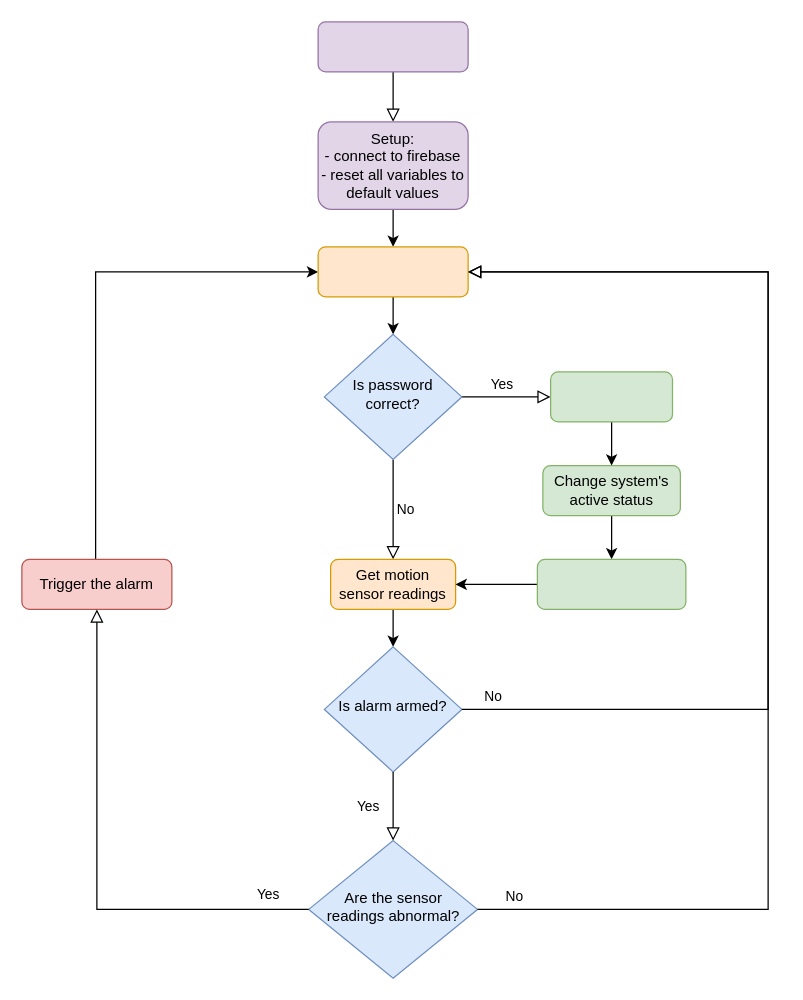
This 803x1000 diagram has some shape labels left out. The shapes that lost their labels are listed below. From the top down, each one's centre as x and y in pixels, then its label:
the point at 392,46: Start
the point at 392,271: Get password from firebase
the point at 610,396: Turn off alarm
the point at 611,583: Reset password on firebase
